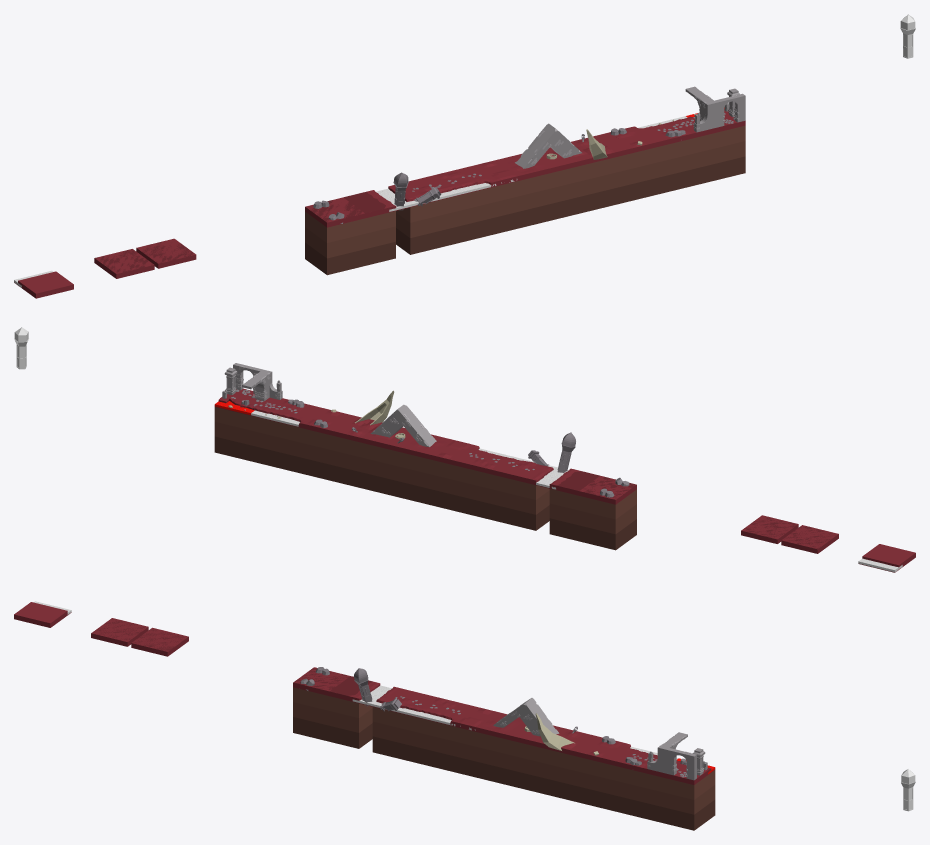
Rendered from Fase6Entrada.fbx.
The picture shows the model from 3 angles, top to bottom: view 1: azimuth 30°, elevation 25°; view 2: azimuth 150°, elevation 25°; view 3: azimuth 330°, elevation 25°; orthographic projection. The views are drawn at different scales.
Parts seen in each view (by area): view 1: Plane.059, Plane.002, Plane.050, Plane.051, Plane.052, Plane.053, Plane.055, Plane.056, Plane.054, Plane.057, Plane.005, Cube.052 (+12 smaller); view 2: Plane.059, Plane.002, Plane.055, Plane.050, Plane.051, Plane.053, Plane.054, Plane.057, Plane.056, Plane.052, Plane.005, Cube.052 (+12 smaller); view 3: Plane.050, Plane.005, Plane.052, Plane.054, Plane.056, Plane.053, Plane.051, Plane.057, Plane.059, Plane.055, Plane.002, Plane.049 (+15 smaller).
Part boxes in pixels (left/top/right/bottom): Plane.059: left=305, top=212, right=365, bottom=275; Plane.002: left=396, top=200, right=440, bottom=254; Plane.050: left=707, top=125, right=745, bottom=182; Plane.051: left=669, top=135, right=707, bottom=191; Plane.052: left=631, top=144, right=669, bottom=200; Plane.053: left=593, top=153, right=631, bottom=210; Plane.055: left=517, top=172, right=555, bottom=228; Plane.056: left=479, top=181, right=517, bottom=237; Plane.054: left=555, top=163, right=593, bottom=219; Plane.057: left=441, top=190, right=478, bottom=247; Plane.005: left=365, top=211, right=395, bottom=265; Cube.052: left=515, top=123, right=581, bottom=168; Plane.059: left=579, top=489, right=636, bottom=550; Plane.002: left=506, top=478, right=549, bottom=530; Plane.055: left=397, top=451, right=433, bottom=505; Plane.050: left=214, top=407, right=250, bottom=461; Plane.051: left=251, top=416, right=287, bottom=470; Plane.053: left=324, top=433, right=360, bottom=487; Plane.054: left=360, top=442, right=396, bottom=496; Plane.057: left=470, top=469, right=506, bottom=523; Plane.056: left=433, top=460, right=469, bottom=514; Plane.052: left=287, top=425, right=323, bottom=478; Plane.005: left=549, top=489, right=579, bottom=541; Cube.052: left=370, top=404, right=436, bottom=447; Plane.050: left=657, top=770, right=715, bottom=830; Plane.005: left=329, top=696, right=372, bottom=748; Plane.052: left=584, top=758, right=621, bottom=812; Plane.054: left=511, top=741, right=548, bottom=794; Plane.056: left=438, top=723, right=475, bottom=777; Plane.053: left=548, top=749, right=584, bottom=803; Plane.051: left=621, top=767, right=657, bottom=821; Plane.057: left=402, top=714, right=438, bottom=768; Plane.059: left=293, top=687, right=329, bottom=741; Plane.055: left=475, top=732, right=511, bottom=785; Plane.002: left=372, top=707, right=402, bottom=759; Plane.049: left=131, top=627, right=188, bottom=656.
Size of the model in its own units: 19114 by 1801 by 1450.
